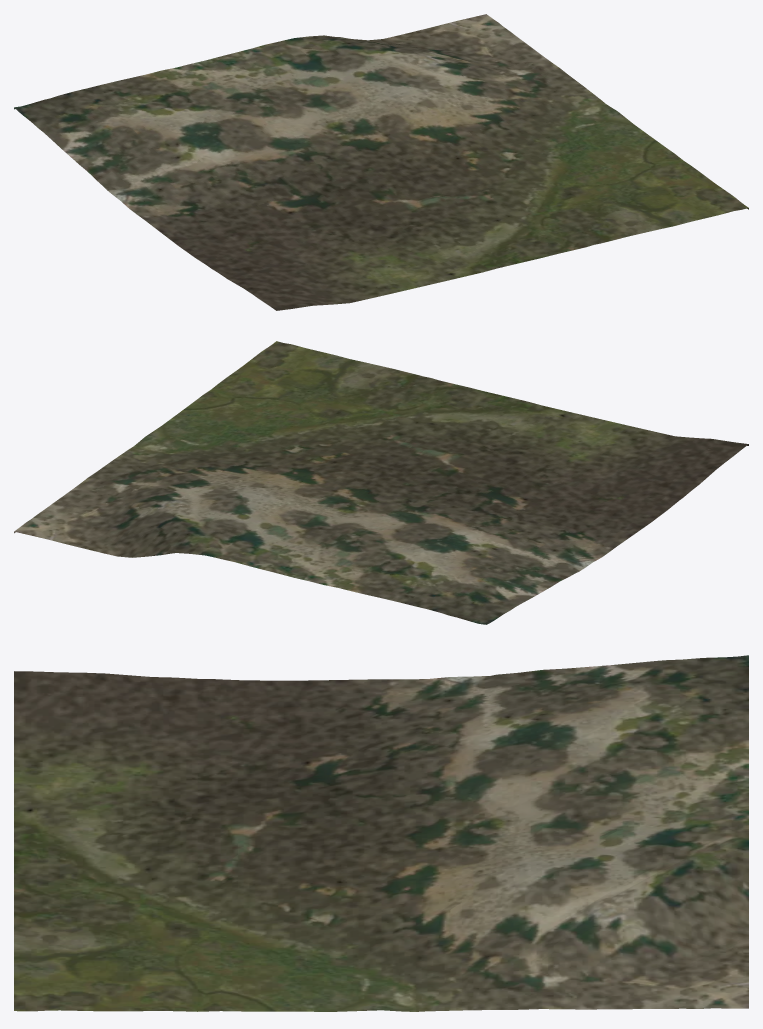
The picture shows the model from 3 angles, top to bottom: view 1: azimuth 30°, elevation 25°; view 2: azimuth 150°, elevation 25°; view 3: azimuth 270°, elevation 25°; orthographic projection. The views are drawn at different scales.
Bounding box in the file's own units: 250 × 14.15 × 241.
Materials: 1 (1 with a texture image).
